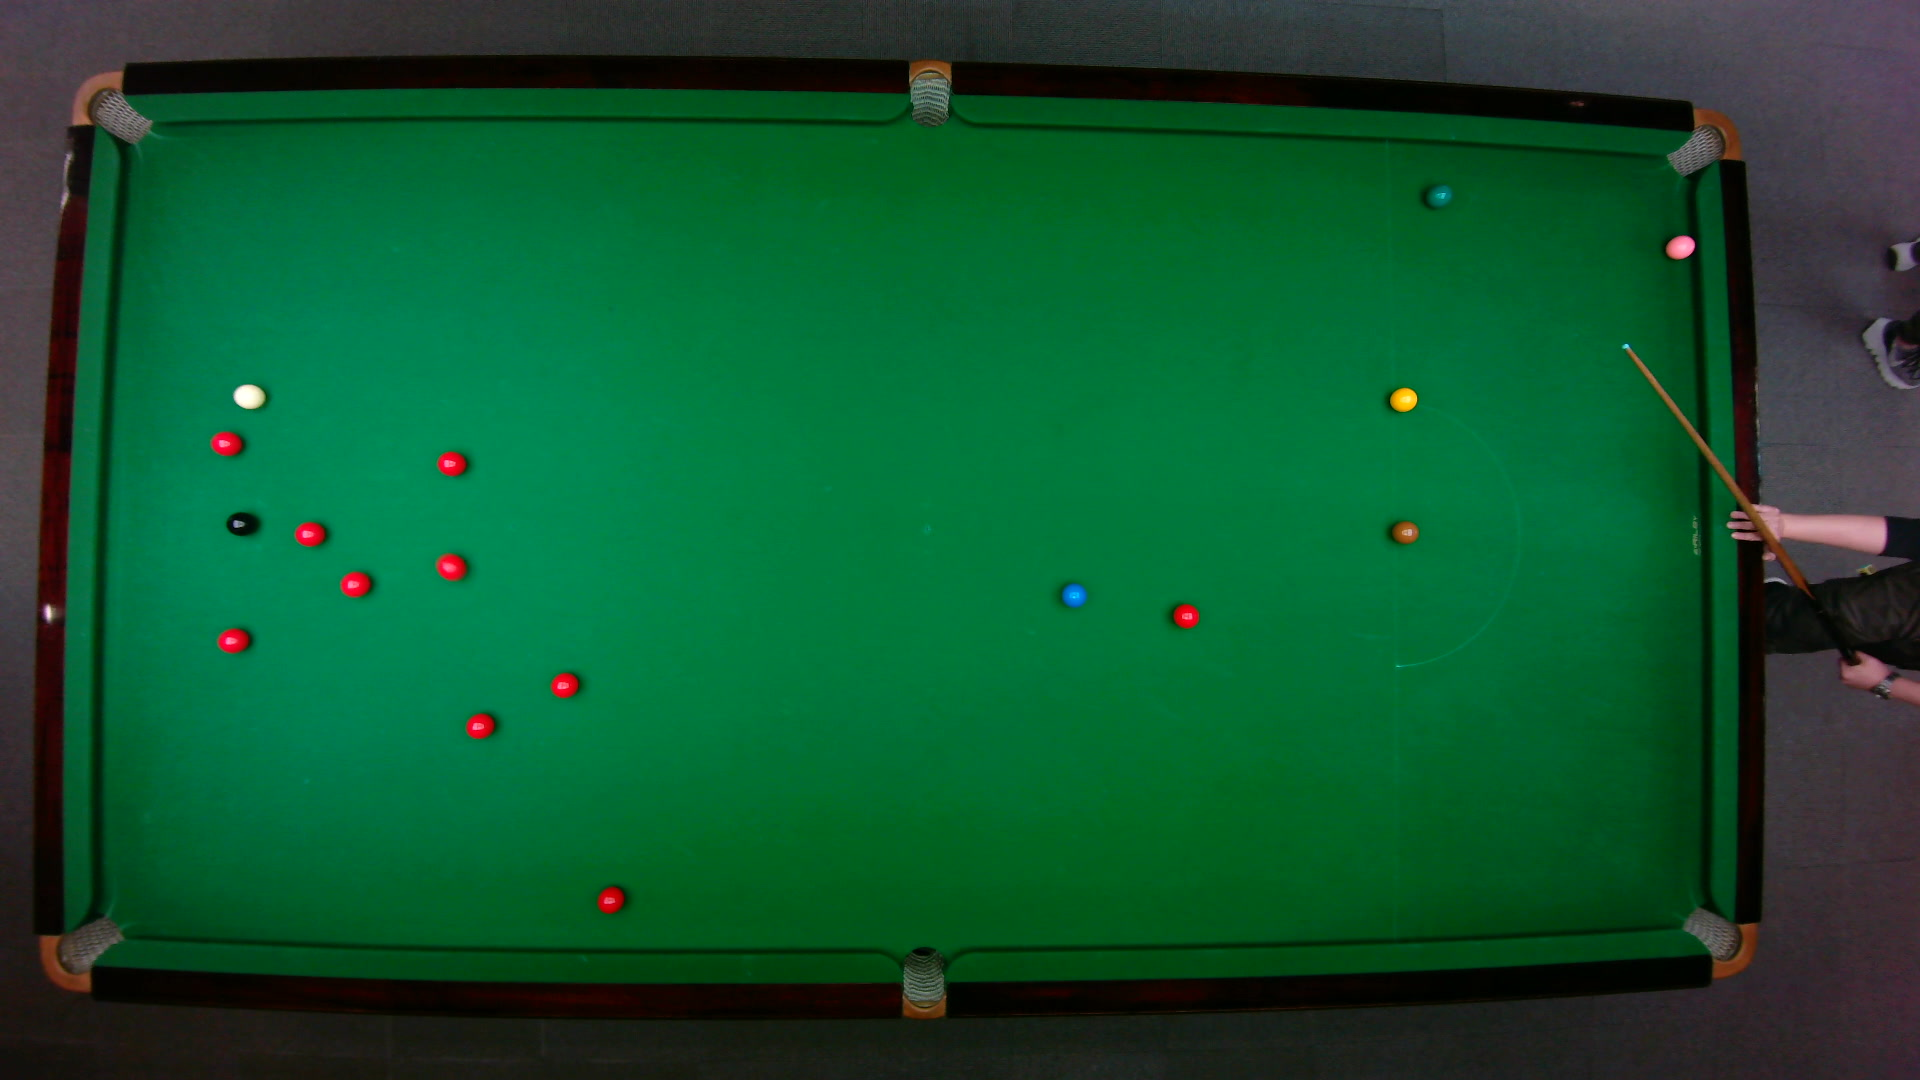bag: (38, 914, 125, 993), (69, 69, 152, 144), (1677, 905, 1756, 978), (1663, 107, 1741, 177), (901, 944, 944, 1021), (909, 57, 949, 127)
black: (223, 509, 256, 535)
blue: (1059, 582, 1087, 607)
brown: (1390, 520, 1419, 545)
cue: (1622, 343, 1857, 663)
green: (1423, 181, 1453, 208)
pink: (1663, 232, 1697, 260)
red: (434, 551, 467, 582), (207, 429, 243, 456), (338, 568, 371, 597), (595, 884, 625, 914), (293, 520, 326, 547), (549, 670, 579, 699), (1170, 601, 1201, 629), (463, 711, 495, 738), (216, 626, 249, 653), (435, 448, 465, 476)
white: (231, 381, 266, 410)
yellow: (1387, 385, 1418, 411)
zone: (1390, 400, 1520, 667)
